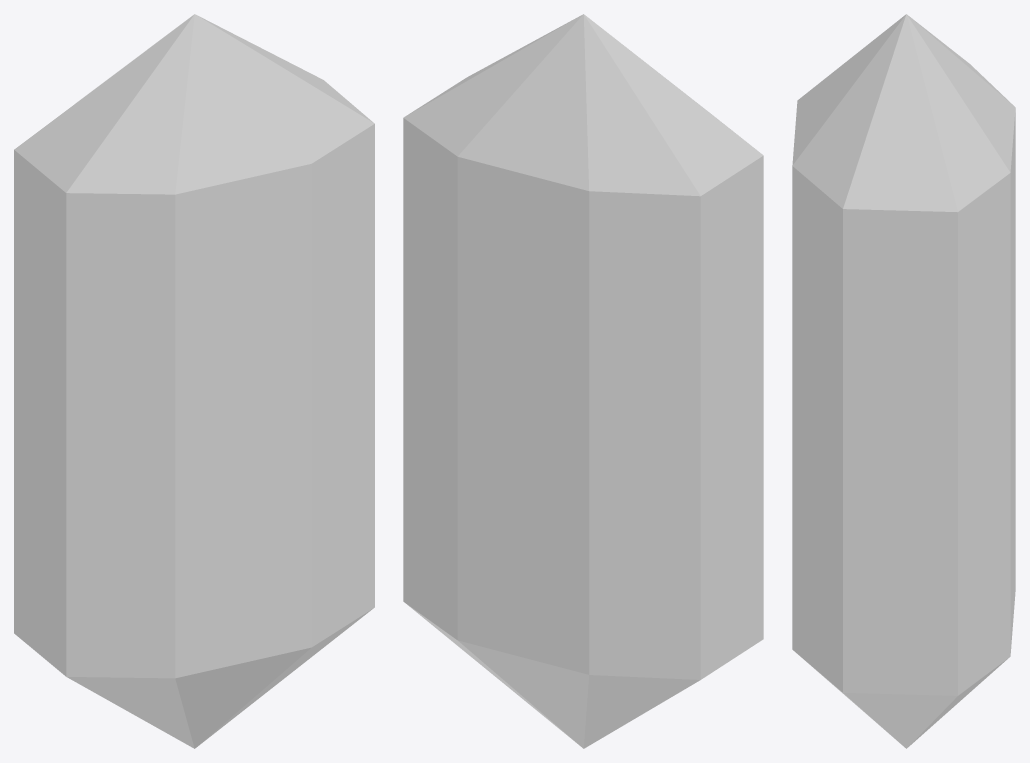
The model's file is mining_PP_Crystal_01_Silver.gltf.
3 views of the same model, side by side, from view 1: azimuth 30°, elevation 25°; view 2: azimuth 150°, elevation 25°; view 3: azimuth 270°, elevation 25° (orthographic).
Visible parts, largest first — view 1: PP_Crystal_01_Silver; view 2: PP_Crystal_01_Silver; view 3: PP_Crystal_01_Silver.
Boxes of the visible parts, x1,y1,x2,y2 form: PP_Crystal_01_Silver: [14, 14, 374, 748]; PP_Crystal_01_Silver: [403, 14, 763, 748]; PP_Crystal_01_Silver: [792, 14, 1015, 748].
Bounding box in the file's own units: 0.2067 × 0.4699 × 0.1293.
1 material, 1 textured.
